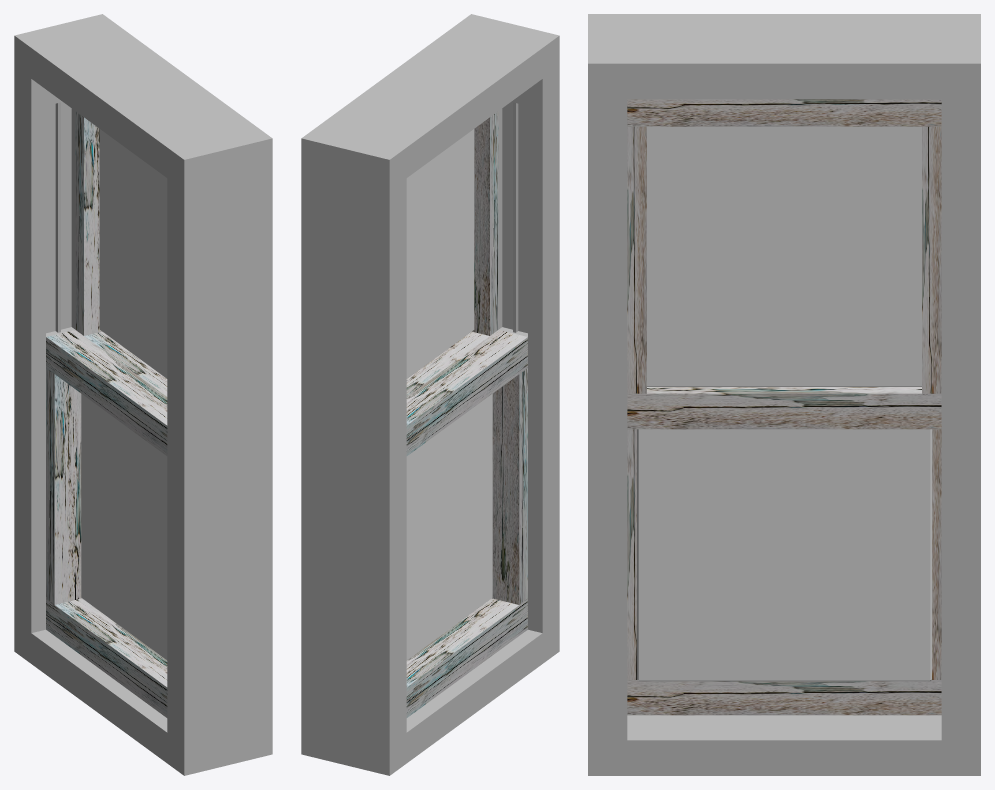
Rendered from windowcabin.fbx.
The picture shows the model from 3 angles, left to right: view 1: azimuth 30°, elevation 25°; view 2: azimuth 150°, elevation 25°; view 3: azimuth 270°, elevation 25°; orthographic projection. The views are drawn at different scales.
Visible parts, largest first — view 1: Cube.002, Cube.003, Cube.001, glass, glass.001, Cube, Cube.013, Cube.005, Cube.006, Cube.009, Cube.007, Cube.011; view 2: Cube.003, Cube.002, Cube.001, glass, glass.001, Cube, Cube.012, Cube.005, Cube.006, Cube.008, Cube.007, Cube.010; view 3: glass, glass.001, Cube.001, Cube.002, Cube.003, Cube, Cube.007, Cube.006, Cube.004, Cube.008, Cube.009, Cube.012 (+1 smaller).
Part boxes in pixels (x1=…): Cube.002: x1=167, y1=169, x2=272, y2=744; Cube.003: x1=14, y1=66, x2=75, y2=632; Cube.001: x1=14, y1=14, x2=272, y2=190; glass: x1=81, y1=394, x2=167, y2=660; glass.001: x1=99, y1=129, x2=167, y2=378; Cube: x1=14, y1=621, x2=272, y2=775; Cube.013: x1=46, y1=368, x2=81, y2=604; Cube.005: x1=46, y1=330, x2=167, y2=455; Cube.006: x1=46, y1=598, x2=167, y2=717; Cube.009: x1=75, y1=111, x2=101, y2=335; Cube.007: x1=84, y1=331, x2=167, y2=396; Cube.011: x1=55, y1=102, x2=60, y2=332; Cube.003: x1=301, y1=169, x2=406, y2=744; Cube.002: x1=498, y1=66, x2=559, y2=632; Cube.001: x1=301, y1=14, x2=559, y2=190; glass: x1=406, y1=394, x2=492, y2=660; glass.001: x1=406, y1=129, x2=474, y2=378; Cube: x1=301, y1=621, x2=559, y2=775; Cube.012: x1=492, y1=368, x2=527, y2=604; Cube.005: x1=406, y1=330, x2=527, y2=455; Cube.006: x1=406, y1=598, x2=527, y2=717; Cube.008: x1=472, y1=111, x2=498, y2=335; Cube.007: x1=406, y1=331, x2=489, y2=396; Cube.010: x1=513, y1=102, x2=518, y2=332; glass: x1=637, y1=429, x2=931, y2=681; glass.001: x1=647, y1=126, x2=921, y2=386; Cube.001: x1=588, y1=14, x2=980, y2=99; Cube.002: x1=588, y1=99, x2=627, y2=740; Cube.003: x1=941, y1=99, x2=980, y2=740; Cube: x1=588, y1=715, x2=980, y2=775; Cube.007: x1=627, y1=387, x2=941, y2=429; Cube.006: x1=627, y1=680, x2=941, y2=715; Cube.004: x1=627, y1=99, x2=941, y2=126; Cube.008: x1=627, y1=126, x2=646, y2=393; Cube.009: x1=922, y1=126, x2=941, y2=393; Cube.012: x1=627, y1=429, x2=636, y2=679.
Bounding box in the file's own units: 60 × 400 × 200.
